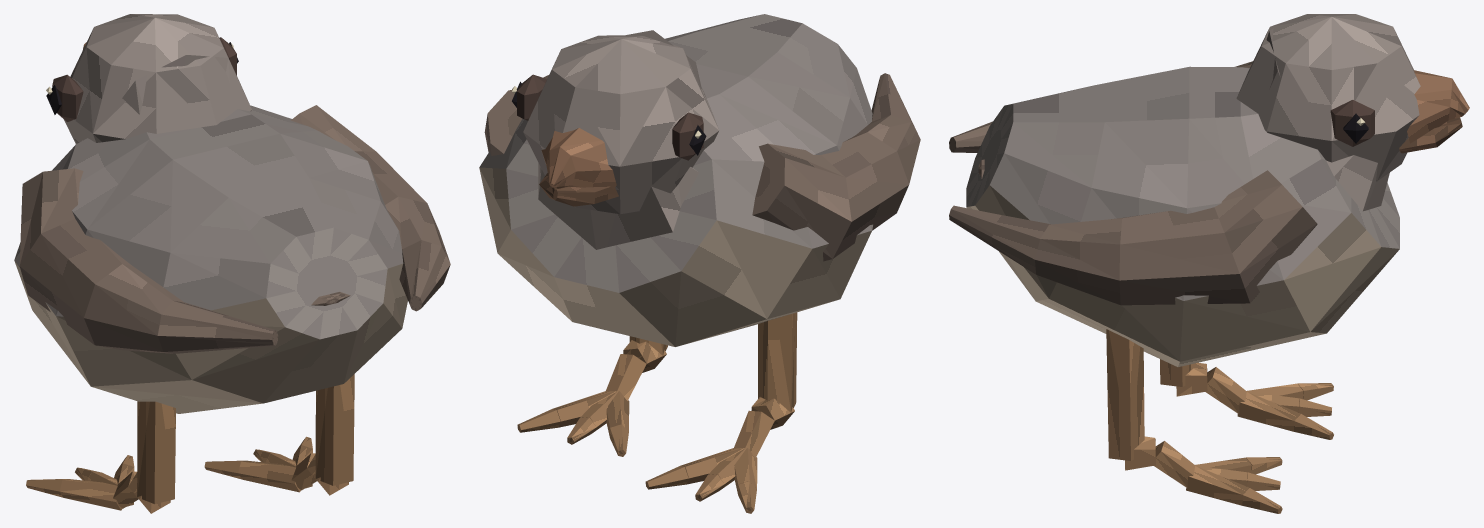
File: mon_bluejay_chick.glb
3 renders of one model, left to right at view 1: azimuth 30°, elevation 25°; view 2: azimuth 150°, elevation 25°; view 3: azimuth 270°, elevation 25°, orthographic.
Parts seen in each view (by area): view 1: closed_body; view 2: closed_body; view 3: closed_body.
Part boxes in pixels (bbox=[...]): closed_body: bbox=[14, 14, 450, 513]; closed_body: bbox=[479, 14, 920, 513]; closed_body: bbox=[949, 14, 1469, 513].
Size of the model in its own units: 0.0347 by 0.0402 by 0.0434.
Materials: 1 (1 with a texture image).
